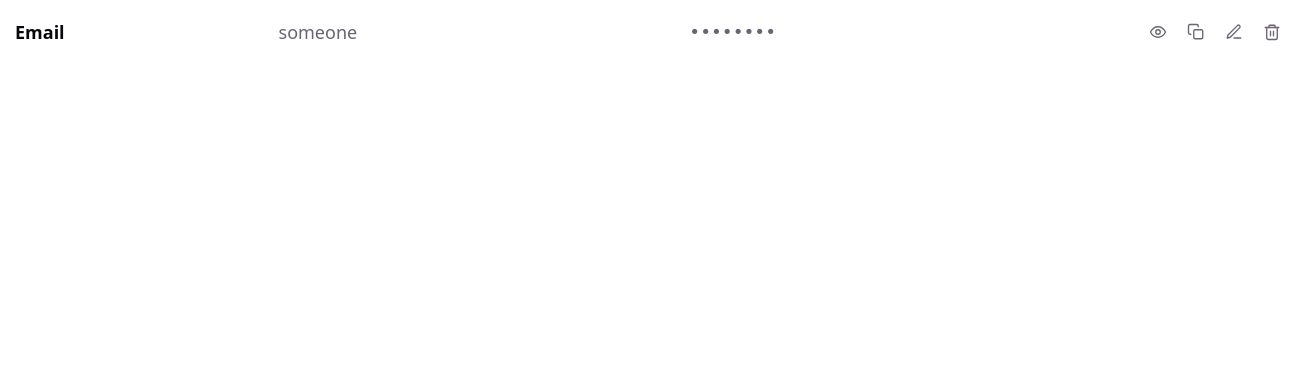
Test: PasswordItem › shows an error and stays in edit mode when saving fails
Click the button named "Edit entry": (1234, 32) [1217,15,1251,49]
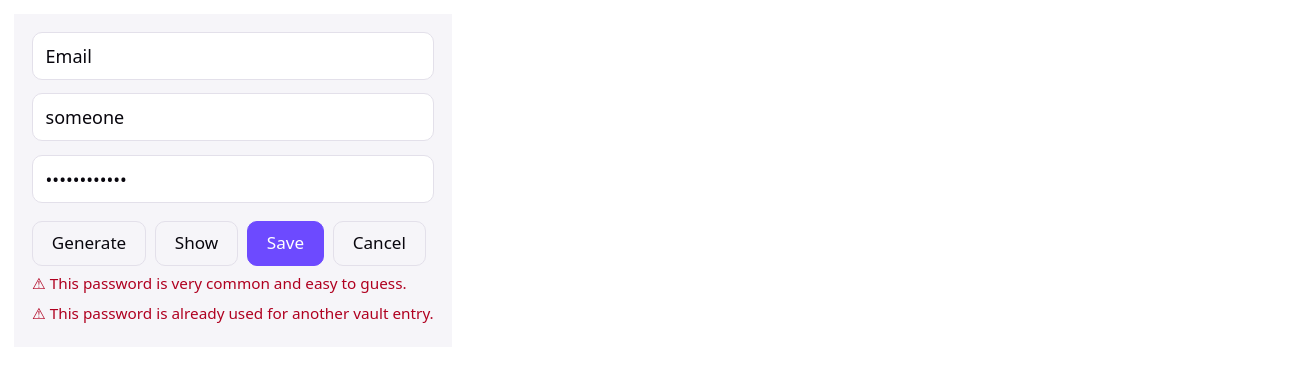
Click the button "Save": (285, 243) [247,221,324,266]
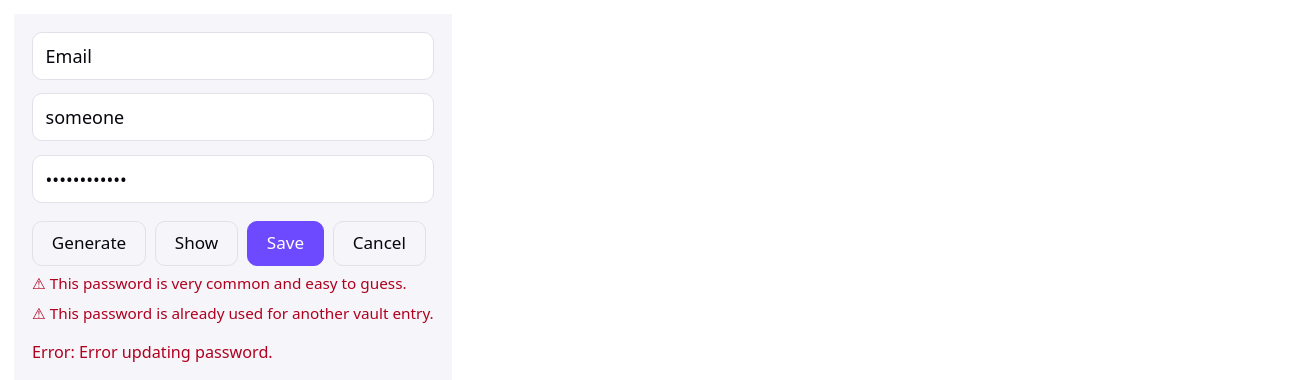
Result: the 1st field with placeholder "Site name" is shown at [32,32,434,80]
Result: the text "Error: Error updating password." is shown at [32,341,273,363]
